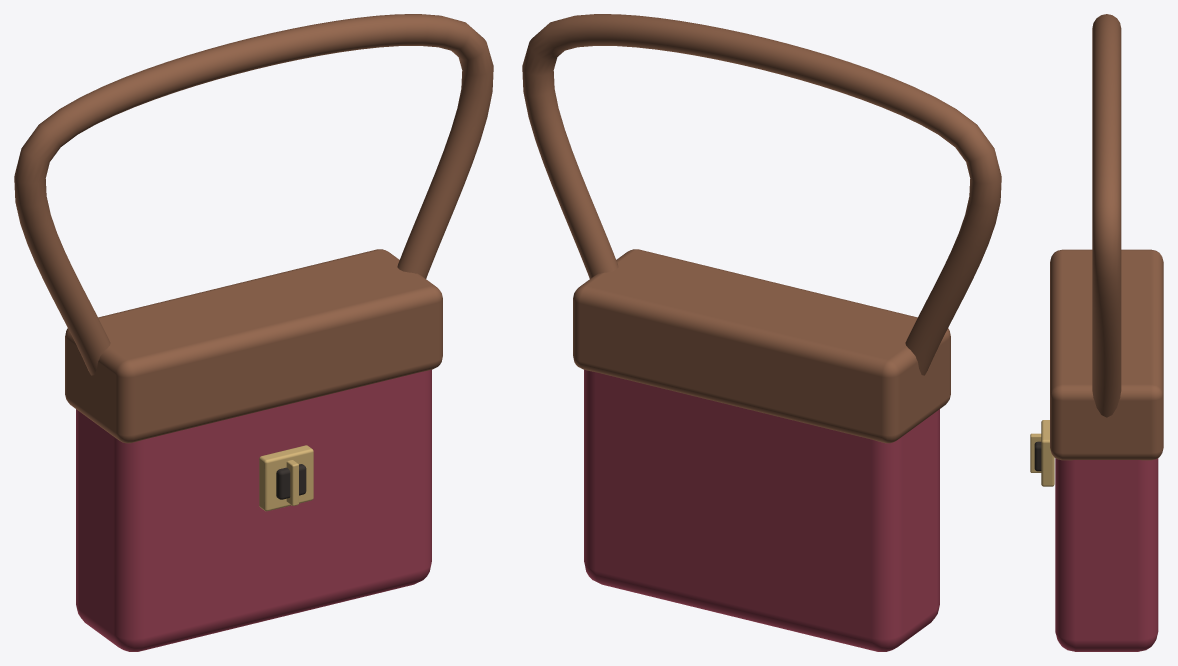
The model's file is griffin-airmail-roost-and-posthouse-courier-satchel-d52f5516__30529.glb.
The picture shows the model from 3 angles, left to right: view 1: azimuth 30°, elevation 25°; view 2: azimuth 150°, elevation 25°; view 3: azimuth 270°, elevation 25°; orthographic projection. The views are drawn at different scales.
Parts seen in each view (by area): view 1: courier-satchel; view 2: courier-satchel; view 3: courier-satchel.
Boxes of the visible parts, x1,y1,x2,y2 form: courier-satchel: (14, 14, 493, 651); courier-satchel: (522, 14, 1001, 651); courier-satchel: (1030, 14, 1163, 651).
Bounding box in the file's own units: 0.4822 × 0.5478 × 0.129.
